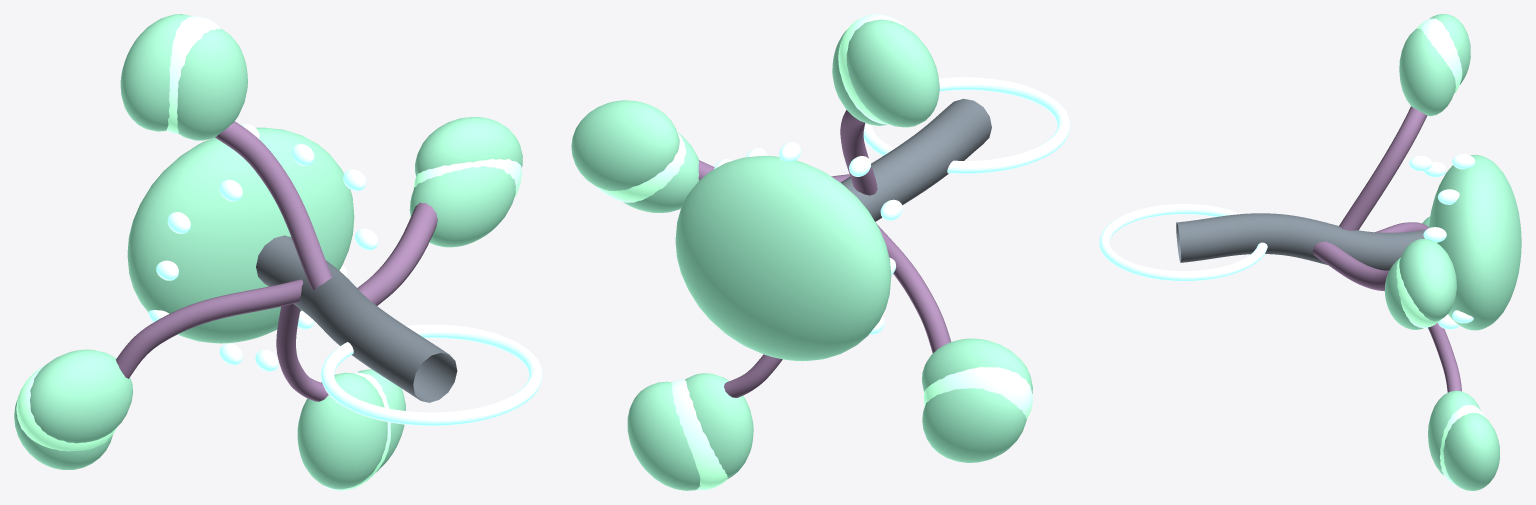
File: alien-tree.glb
The picture shows the model from 3 angles, left to right: view 1: azimuth 30°, elevation 25°; view 2: azimuth 150°, elevation 25°; view 3: azimuth 270°, elevation 25°; orthographic projection. The views are drawn at different scales.
Visible parts, largest first — view 1: AlienTree_CentralCanopy, AlienTree_MainTrunk, AlienTree_Canopy_3_1, AlienTree_Canopy_4_1, AlienTree_Canopy_2_1, AlienTree_Canopy_1_1, AlienTree_RootHalo, AlienTree_Canopy_2_3, AlienTree_Branch_2, AlienTree_Branch_3, AlienTree_Canopy_1_3, AlienTree_Branch_1 (+7 smaller); view 2: AlienTree_CentralCanopy, AlienTree_Canopy_2_3, AlienTree_Canopy_1_3, AlienTree_MainTrunk, AlienTree_Canopy_3_3, AlienTree_Canopy_4_3, AlienTree_Canopy_4_1, AlienTree_RootHalo, AlienTree_Canopy_3_1, AlienTree_Canopy_3_2, AlienTree_Branch_3, AlienTree_Canopy_4_2 (+6 smaller); view 3: AlienTree_CentralCanopy, AlienTree_MainTrunk, AlienTree_Canopy_1_3, AlienTree_Canopy_4_3, AlienTree_RootHalo, AlienTree_Canopy_2_1, AlienTree_Branch_2, AlienTree_Branch_1, AlienTree_Canopy_4_1, AlienTree_Canopy_2_2, AlienTree_Branch_4, AlienTree_Canopy_2_3 (+3 smaller).
Part boxes in pixels (left/top/right/bottom): AlienTree_CentralCanopy: left=127, top=127, right=354, bottom=343; AlienTree_MainTrunk: left=256, top=235, right=457, bottom=402; AlienTree_Canopy_3_1: left=30, top=349, right=132, bottom=443; AlienTree_Canopy_4_1: left=297, top=372, right=387, bottom=489; AlienTree_Canopy_2_1: left=177, top=28, right=247, bottom=140; AlienTree_Canopy_1_1: left=409, top=166, right=515, bottom=247; AlienTree_RootHalo: left=320, top=324, right=542, bottom=425; AlienTree_Canopy_2_3: left=120, top=14, right=191, bottom=131; AlienTree_Branch_2: left=215, top=121, right=332, bottom=290; AlienTree_Branch_3: left=116, top=279, right=303, bottom=378; AlienTree_Canopy_1_3: left=415, top=117, right=522, bottom=176; AlienTree_Branch_1: left=357, top=202, right=437, bottom=305; AlienTree_CentralCanopy: left=675, top=155, right=891, bottom=361; AlienTree_Canopy_2_3: left=846, top=19, right=939, bottom=127; AlienTree_Canopy_1_3: left=571, top=100, right=679, bottom=190; AlienTree_MainTrunk: left=840, top=98, right=991, bottom=221; AlienTree_Canopy_3_3: left=922, top=388, right=1026, bottom=462; AlienTree_Canopy_4_3: left=627, top=381, right=700, bottom=490; AlienTree_Canopy_4_1: left=685, top=373, right=753, bottom=479; AlienTree_RootHalo: left=863, top=77, right=1070, bottom=173; AlienTree_Canopy_3_1: left=922, top=338, right=1032, bottom=393; AlienTree_Canopy_3_2: left=923, top=367, right=1032, bottom=418; AlienTree_Branch_3: left=876, top=223, right=951, bottom=353; AlienTree_Canopy_4_2: left=671, top=379, right=728, bottom=490; AlienTree_CentralCanopy: left=1429, top=154, right=1521, bottom=330; AlienTree_MainTrunk: left=1176, top=213, right=1425, bottom=270; AlienTree_Canopy_1_3: left=1399, top=239, right=1456, bottom=321; AlienTree_Canopy_4_3: left=1443, top=413, right=1499, bottom=490; AlienTree_RootHalo: left=1099, top=204, right=1267, bottom=281; AlienTree_Canopy_2_1: left=1399, top=28, right=1455, bottom=116; AlienTree_Branch_2: left=1339, top=106, right=1426, bottom=230; AlienTree_Branch_1: left=1312, top=241, right=1389, bottom=290; AlienTree_Canopy_4_1: left=1428, top=390, right=1480, bottom=475; AlienTree_Canopy_2_2: left=1417, top=18, right=1462, bottom=93; AlienTree_Branch_4: left=1428, top=323, right=1461, bottom=392; AlienTree_Canopy_2_3: left=1430, top=14, right=1470, bottom=84.
Bounding box in the file's own units: 6.6 × 6.78 × 6.49.
